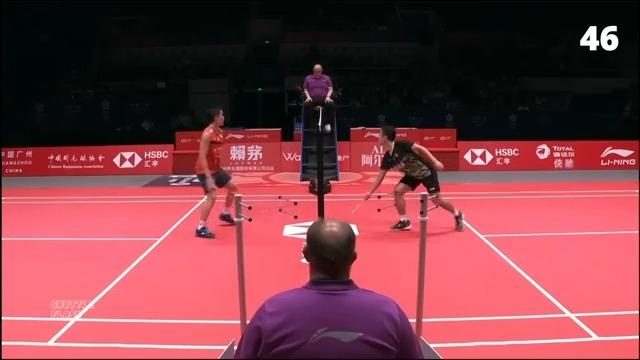Shuttlecock: (319, 122, 335, 134)
